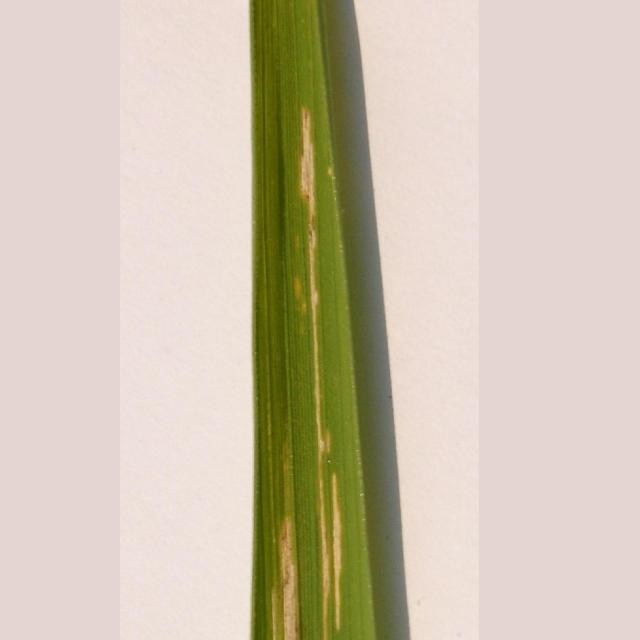Bacterial leaf blight: (262, 99, 365, 640)
